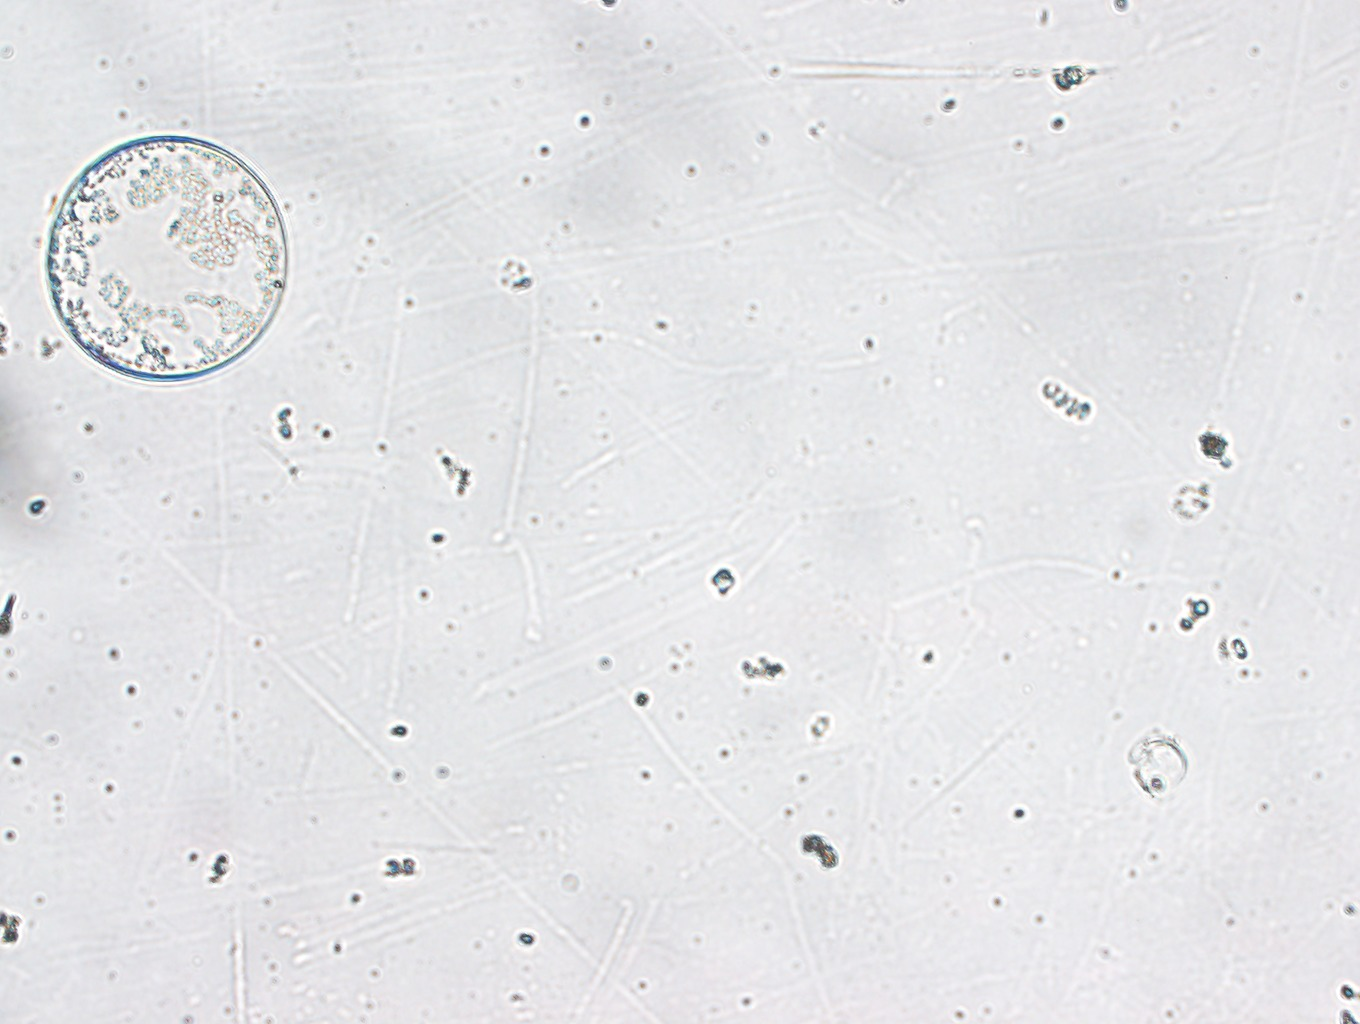coscinodiscus: (43, 133, 296, 387)
